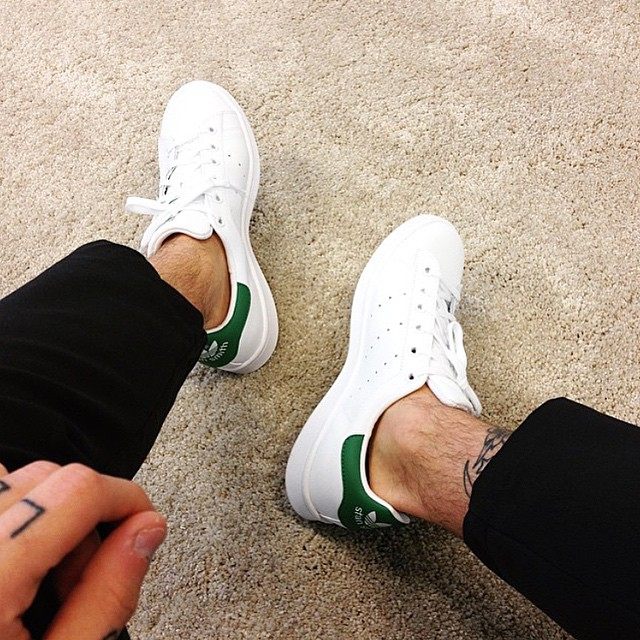sneaker: (274, 199, 509, 547), (121, 69, 296, 397)
